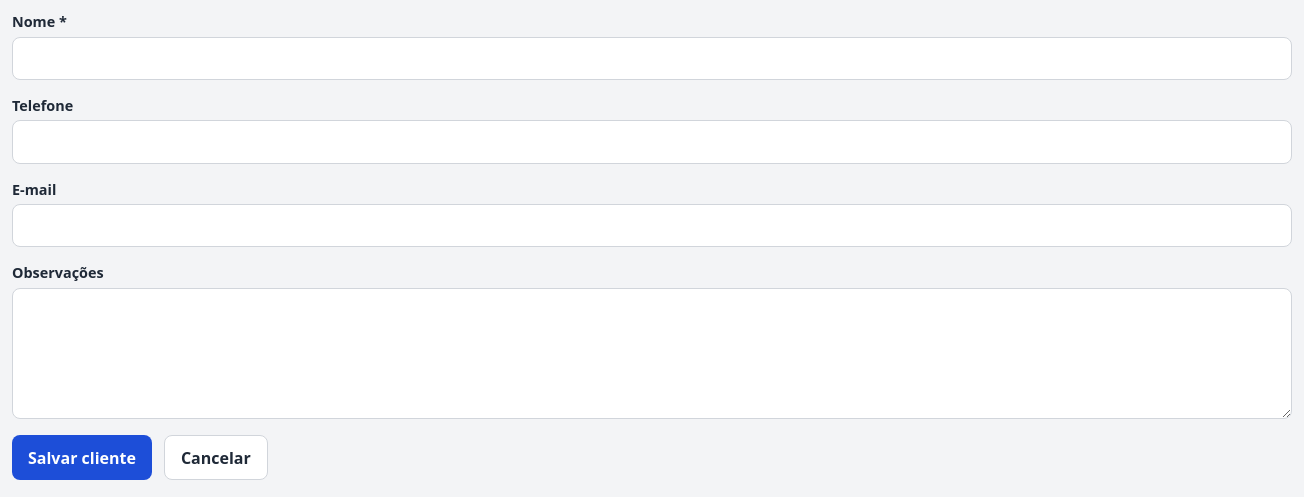
Test: NewCustomerForm › disables saving while the request is in flight
In the field labelled "Nome *": (652, 58) x1=12 y1=37 x2=1292 y2=80, type "João"
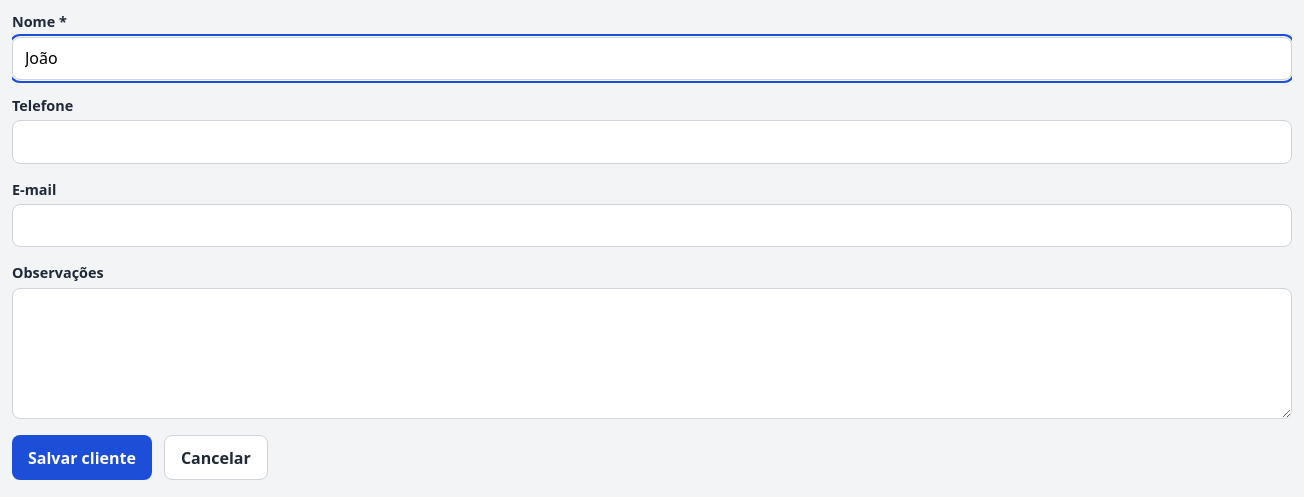
Click the button "Salvar cliente": (82, 458) x1=12 y1=435 x2=152 y2=480
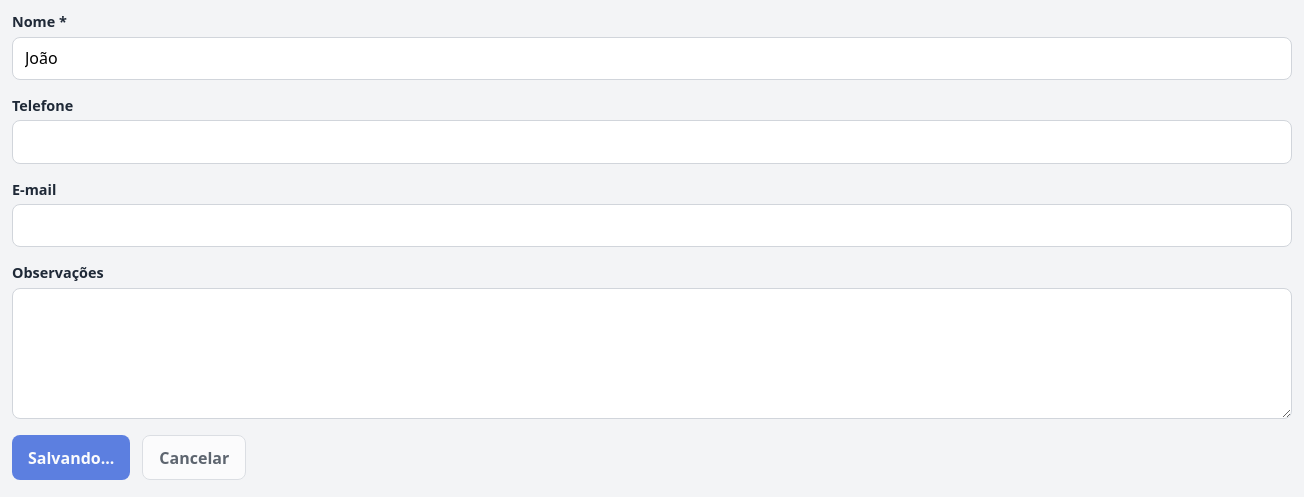
expect the button "Salvando..." is disabled: met, box x1=12 y1=435 x2=130 y2=480
